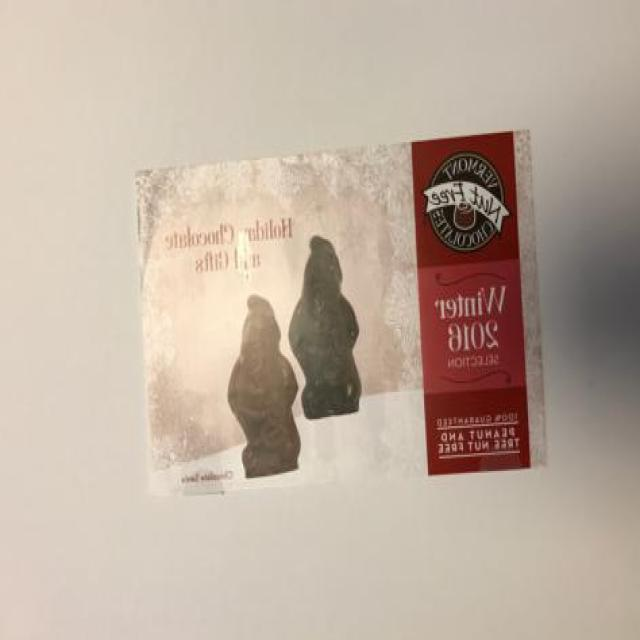kertas: (135, 129, 549, 497)
